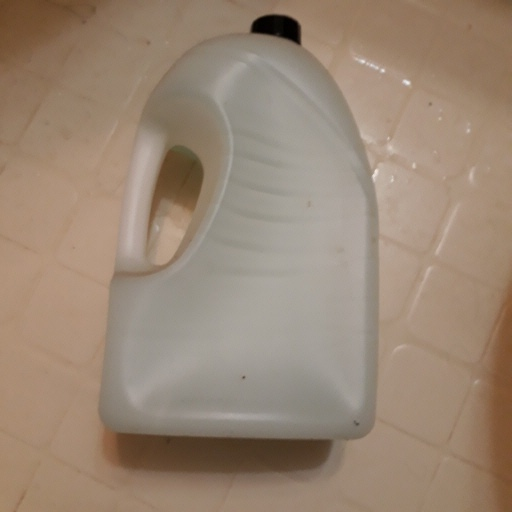Plastic_1: (110, 13, 381, 445)
